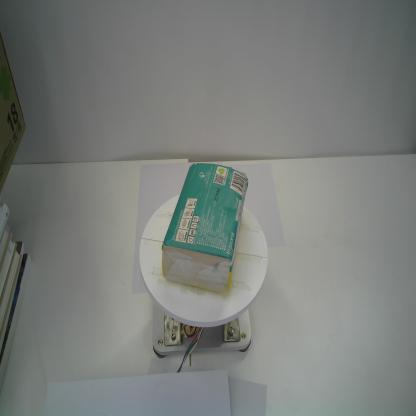Tissue: (160, 160, 249, 298)
